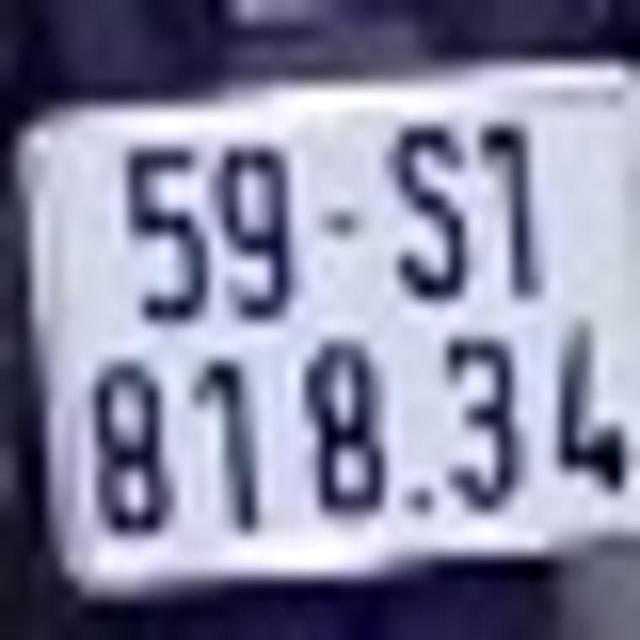1: (192, 355, 264, 534), (480, 115, 544, 302)
3: (439, 328, 524, 517)
4: (550, 313, 636, 504)
5: (121, 139, 212, 326)
8: (304, 334, 388, 520), (91, 355, 170, 540)
9: (217, 141, 293, 323)
S: (386, 121, 470, 302)
